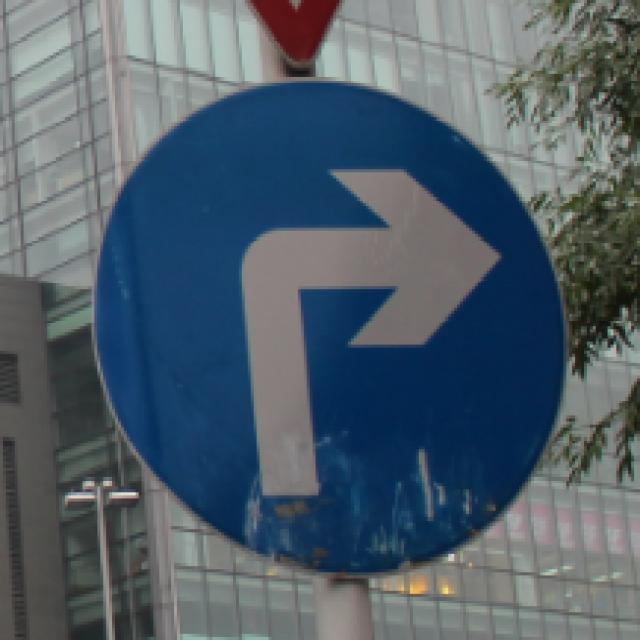Right: (97, 81, 586, 564)
